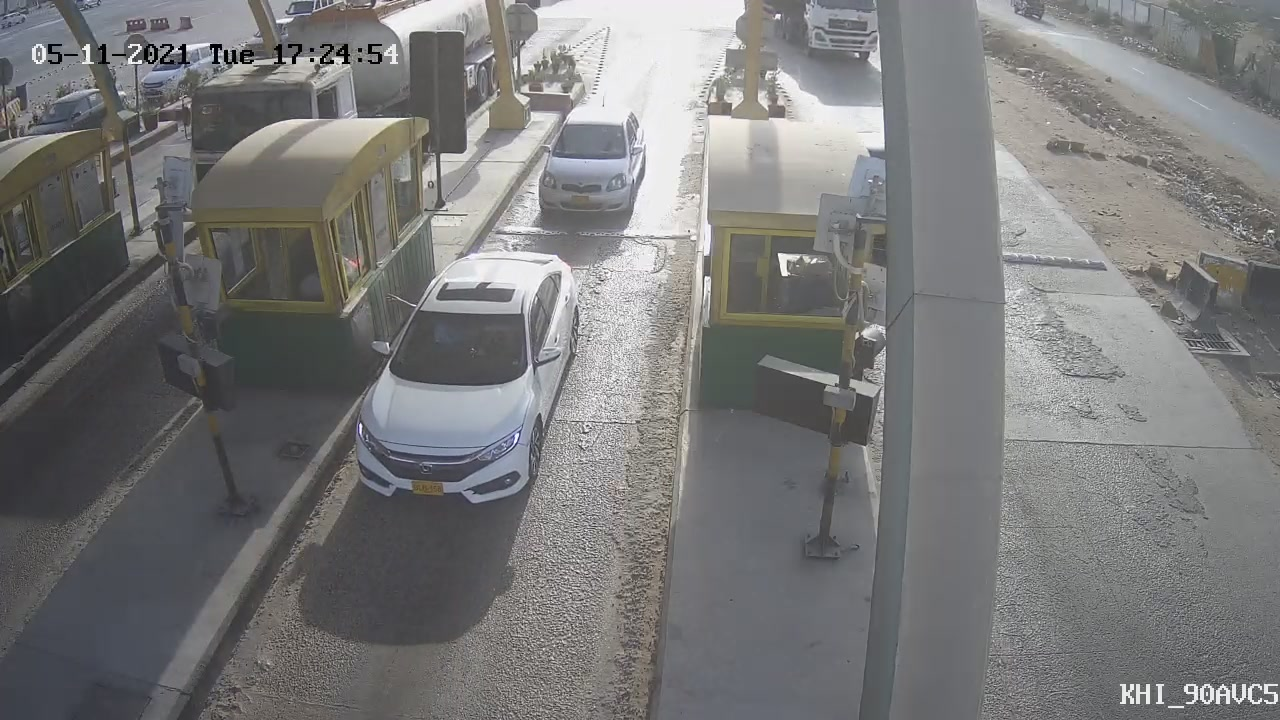F1: (327, 235, 595, 530), (520, 90, 663, 236)
